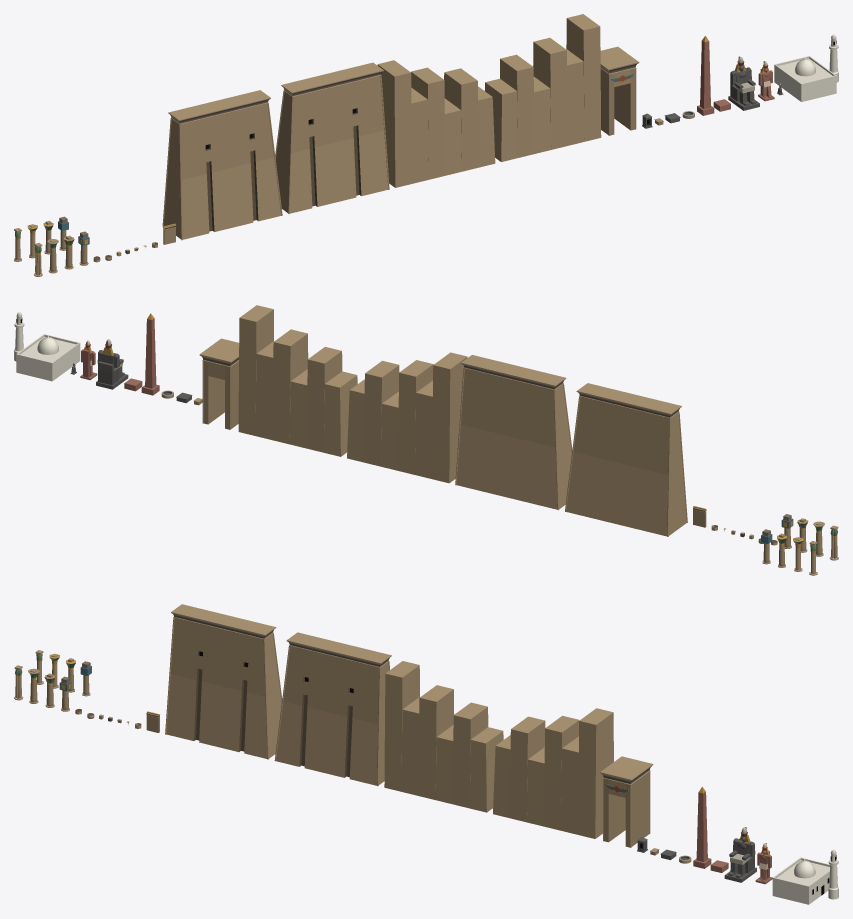
File: temple.glb
The picture shows the model from 3 angles, top to bottom: view 1: azimuth 30°, elevation 25°; view 2: azimuth 150°, elevation 25°; view 3: azimuth 330°, elevation 25°; orthographic projection. The views are drawn at different scales.
Parts seen in each view (by area): view 1: pylon_tower, pylon_tower_left, pylon_tower_ruin_left, pylon_tower_ruin, pylon_gateway, mosque, colossus_seated, obelisk; view 2: pylon_tower, pylon_tower_left, pylon_tower_ruin_left, pylon_tower_ruin, pylon_gateway, mosque, colossus_seated, obelisk; view 3: pylon_tower, pylon_tower_left, pylon_tower_ruin, pylon_tower_ruin_left, pylon_gateway, mosque, colossus_seated, obelisk.
Part boxes in pixels (x1,y1,x2,y2): pylon_tower: (162, 90, 282, 240); pylon_tower_left: (275, 62, 389, 213); pylon_tower_ruin_left: (485, 14, 601, 161); pylon_tower_ruin: (377, 60, 495, 187); pylon_gateway: (600, 46, 639, 135); mosque: (774, 56, 836, 101); colossus_seated: (728, 56, 759, 110); obelisk: (697, 36, 714, 115); pylon_tower: (565, 383, 687, 536); pylon_tower_left: (455, 355, 572, 510); pylon_tower_ruin_left: (238, 305, 357, 456); pylon_tower_ruin: (347, 352, 467, 483); pylon_gateway: (199, 338, 239, 429); mosque: (16, 334, 80, 381); colossus_seated: (96, 339, 128, 389); obelisk: (141, 313, 159, 395); pylon_tower: (165, 604, 282, 759); pylon_tower_left: (274, 632, 391, 786); pylon_tower_ruin: (384, 661, 503, 812); pylon_tower_ruin_left: (493, 708, 613, 838); pylon_gateway: (600, 756, 653, 847); mosque: (772, 857, 829, 904); colossus_seated: (724, 827, 756, 882); obelisk: (693, 786, 711, 868).
Size of the model in its own units: 273 by 38.4 by 21.49.
